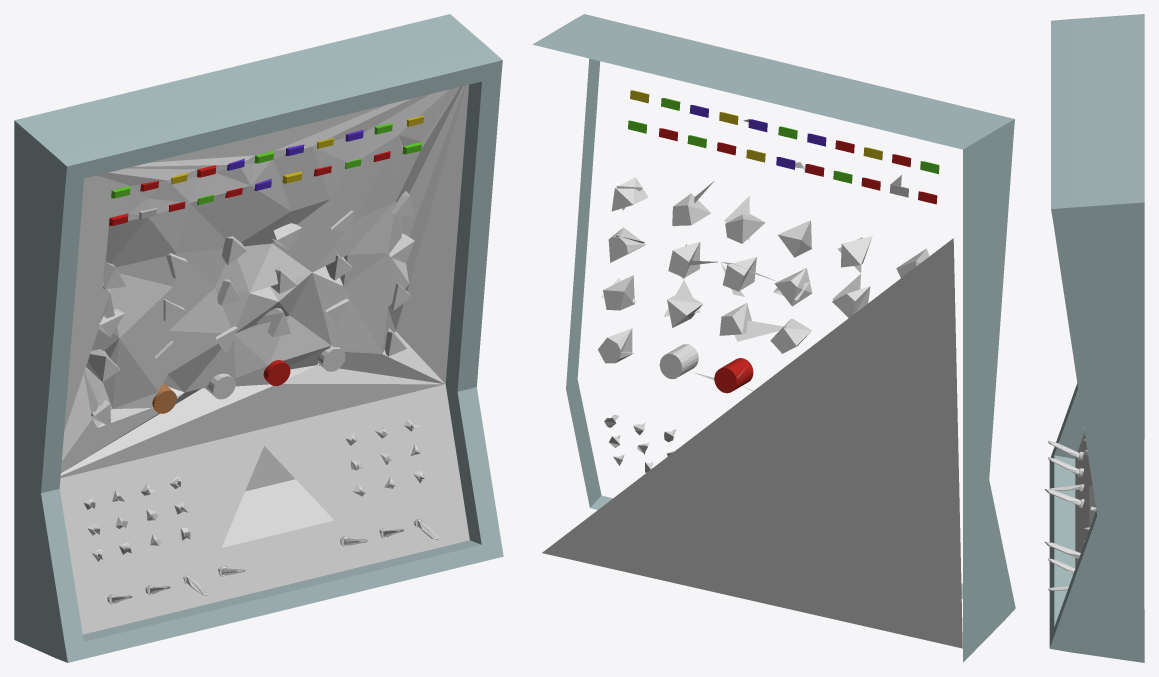
The model's file is sf_sickbay_wall_monitor_0.glb.
The picture shows the model from 3 angles, left to right: view 1: azimuth 30°, elevation 25°; view 2: azimuth 150°, elevation 25°; view 3: azimuth 270°, elevation 25°; orthographic projection. The views are drawn at different scales.
Parts seen in each view (by area): view 1: Material_013, Material_016, Material_004.001, Material_014, Material_006.001, Material_009, Material_008; view 2: Material_013, Material_016, Material_004.001, Material_009, Material_008, Material_007, Material_006.001, Material_010, Material_011; view 3: Material_016, Material_013, Material_002_001, Material_002_004.
Boxes of the visible parts, <box> form: Material_013: <box>59,84,469,634</box>; Material_016: <box>14,14,503,662</box>; Material_004.001: <box>86,191,414,427</box>; Material_014: <box>83,419,423,561</box>; Material_006.001: <box>204,346,345,399</box>; Material_009: <box>109,151,390,225</box>; Material_008: <box>111,122,421,204</box>; Material_013: <box>542,112,962,648</box>; Material_016: <box>532,14,1015,662</box>; Material_004.001: <box>598,177,929,363</box>; Material_009: <box>659,128,937,204</box>; Material_008: <box>628,98,939,183</box>; Material_007: <box>714,358,753,393</box>; Material_006.001: <box>659,344,698,379</box>; Material_010: <box>630,90,882,162</box>; Material_011: <box>689,105,826,169</box>; Material_016: <box>1049,14,1144,662</box>; Material_013: <box>1075,227,1144,567</box>; Material_002_001: <box>1048,440,1081,590</box>; Material_002_004: <box>1045,489,1080,558</box>.
Size of the model in its own units: 0.6858 by 0.7811 by 0.1541.
